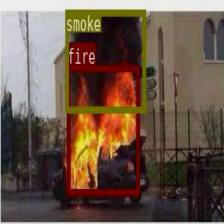fire: (66, 64, 139, 194)
smoke: (65, 9, 145, 111)
